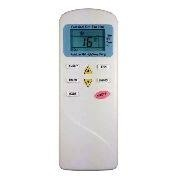remote control: (52, 6, 124, 174)
